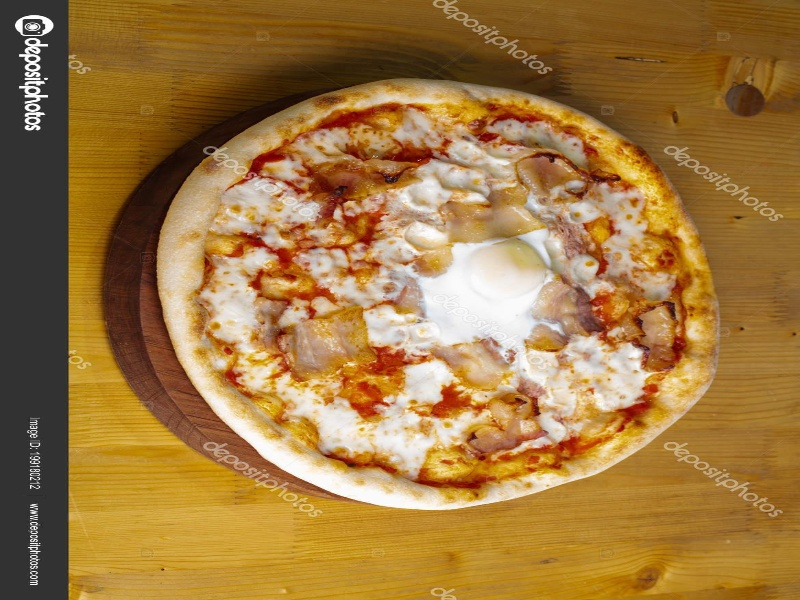oeuf: (455, 235, 554, 307)
